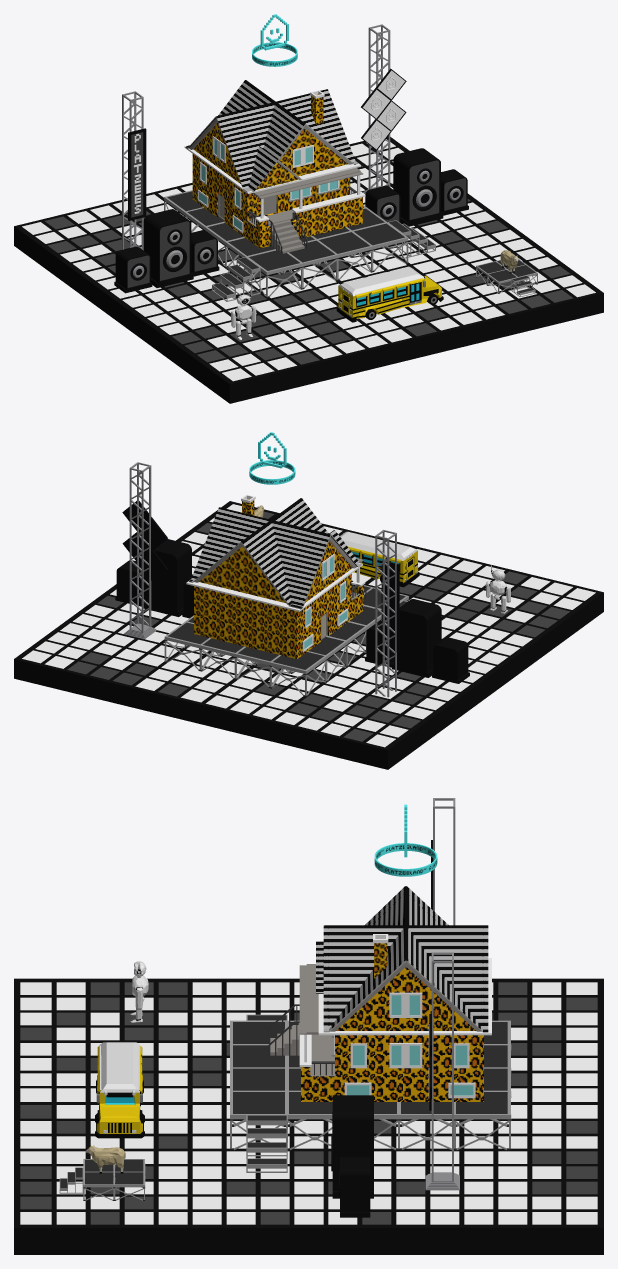
3 renders of one model, top to bottom at view 1: azimuth 30°, elevation 25°; view 2: azimuth 150°, elevation 25°; view 3: azimuth 270°, elevation 25°, orthographic. The views are drawn at different scales.
Parts seen in each view (by area): view 1: Cube.008, Cube.637, VEHICLES_SCHOOL_BUS, TYPE_PREMIUM, OBJRANDOM_PLATZEEBOT; view 2: Cube.008, Cube.637, VEHICLES_SCHOOL_BUS, TYPE_PREMIUM, OBJRANDOM_PLATZEEBOT; view 3: Cube.008, Cube.637, VEHICLES_SCHOOL_BUS, TYPE_PREMIUM, OBJRANDOM_PLATZEEBOT, ANIMAL_OVEJA.
Part boxes in pixels (<box>): Cube.008: <box>14,24,603,403</box>; Cube.637: <box>184,80,365,254</box>; VEHICLES_SCHOOL_BUS: <box>336,267,443,322</box>; TYPE_PREMIUM: <box>252,14,297,66</box>; OBJRANDOM_PLATZEEBOT: <box>231,290,256,339</box>; Cube.008: <box>14,462,603,769</box>; Cube.637: <box>186,494,366,658</box>; VEHICLES_SCHOOL_BUS: <box>339,531,419,587</box>; TYPE_PREMIUM: <box>249,432,295,484</box>; OBJRANDOM_PLATZEEBOT: <box>485,565,510,613</box>; Cube.008: <box>14,798,603,1254</box>; Cube.637: <box>268,886,491,1101</box>; VEHICLES_SCHOOL_BUS: <box>95,1042,144,1138</box>; TYPE_PREMIUM: <box>374,804,437,876</box>; OBJRANDOM_PLATZEEBOT: <box>130,961,148,1022</box>; ANIMAL_OVEJA: <box>85,1145,125,1173</box>.
Size of the model in its own units: 4000 by 2528 by 4000.
Materials: 42 (3 with a texture image).
